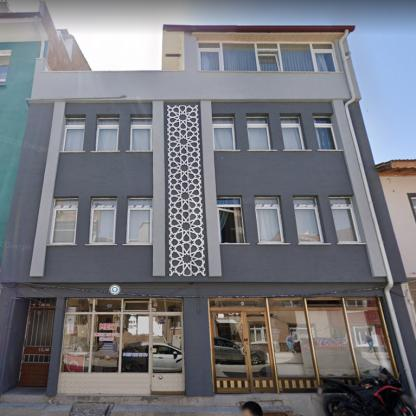door: (210, 310, 278, 392), (19, 307, 54, 386), (151, 313, 185, 394)
window: (209, 297, 384, 392), (62, 298, 183, 374), (330, 197, 361, 243), (294, 197, 324, 244), (49, 197, 78, 245), (254, 198, 284, 243), (217, 197, 245, 244), (90, 197, 116, 244), (127, 198, 152, 244), (280, 117, 305, 150), (61, 118, 85, 152), (95, 117, 119, 151), (212, 116, 235, 151), (313, 117, 338, 149), (247, 117, 270, 150), (131, 118, 152, 150), (1, 50, 11, 84)
